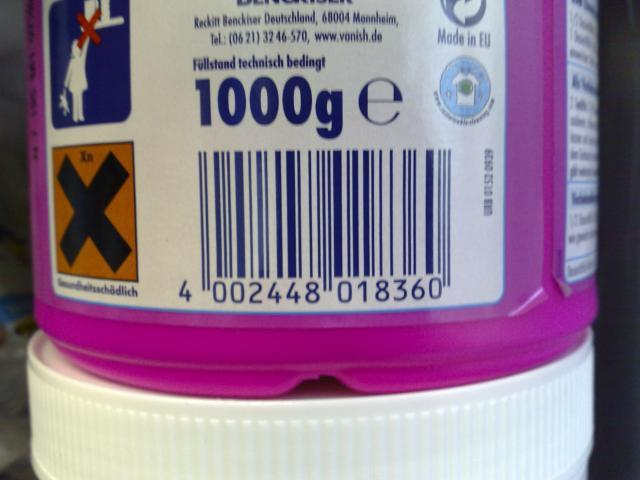Barcode: (172, 143, 476, 308)
